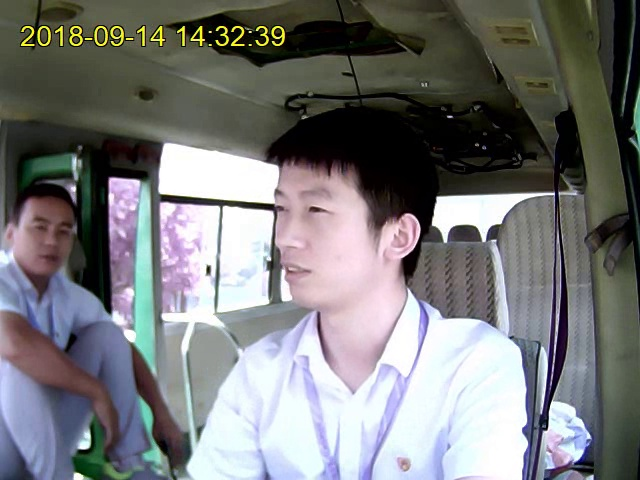closed_mouth: (280, 257, 313, 288)
